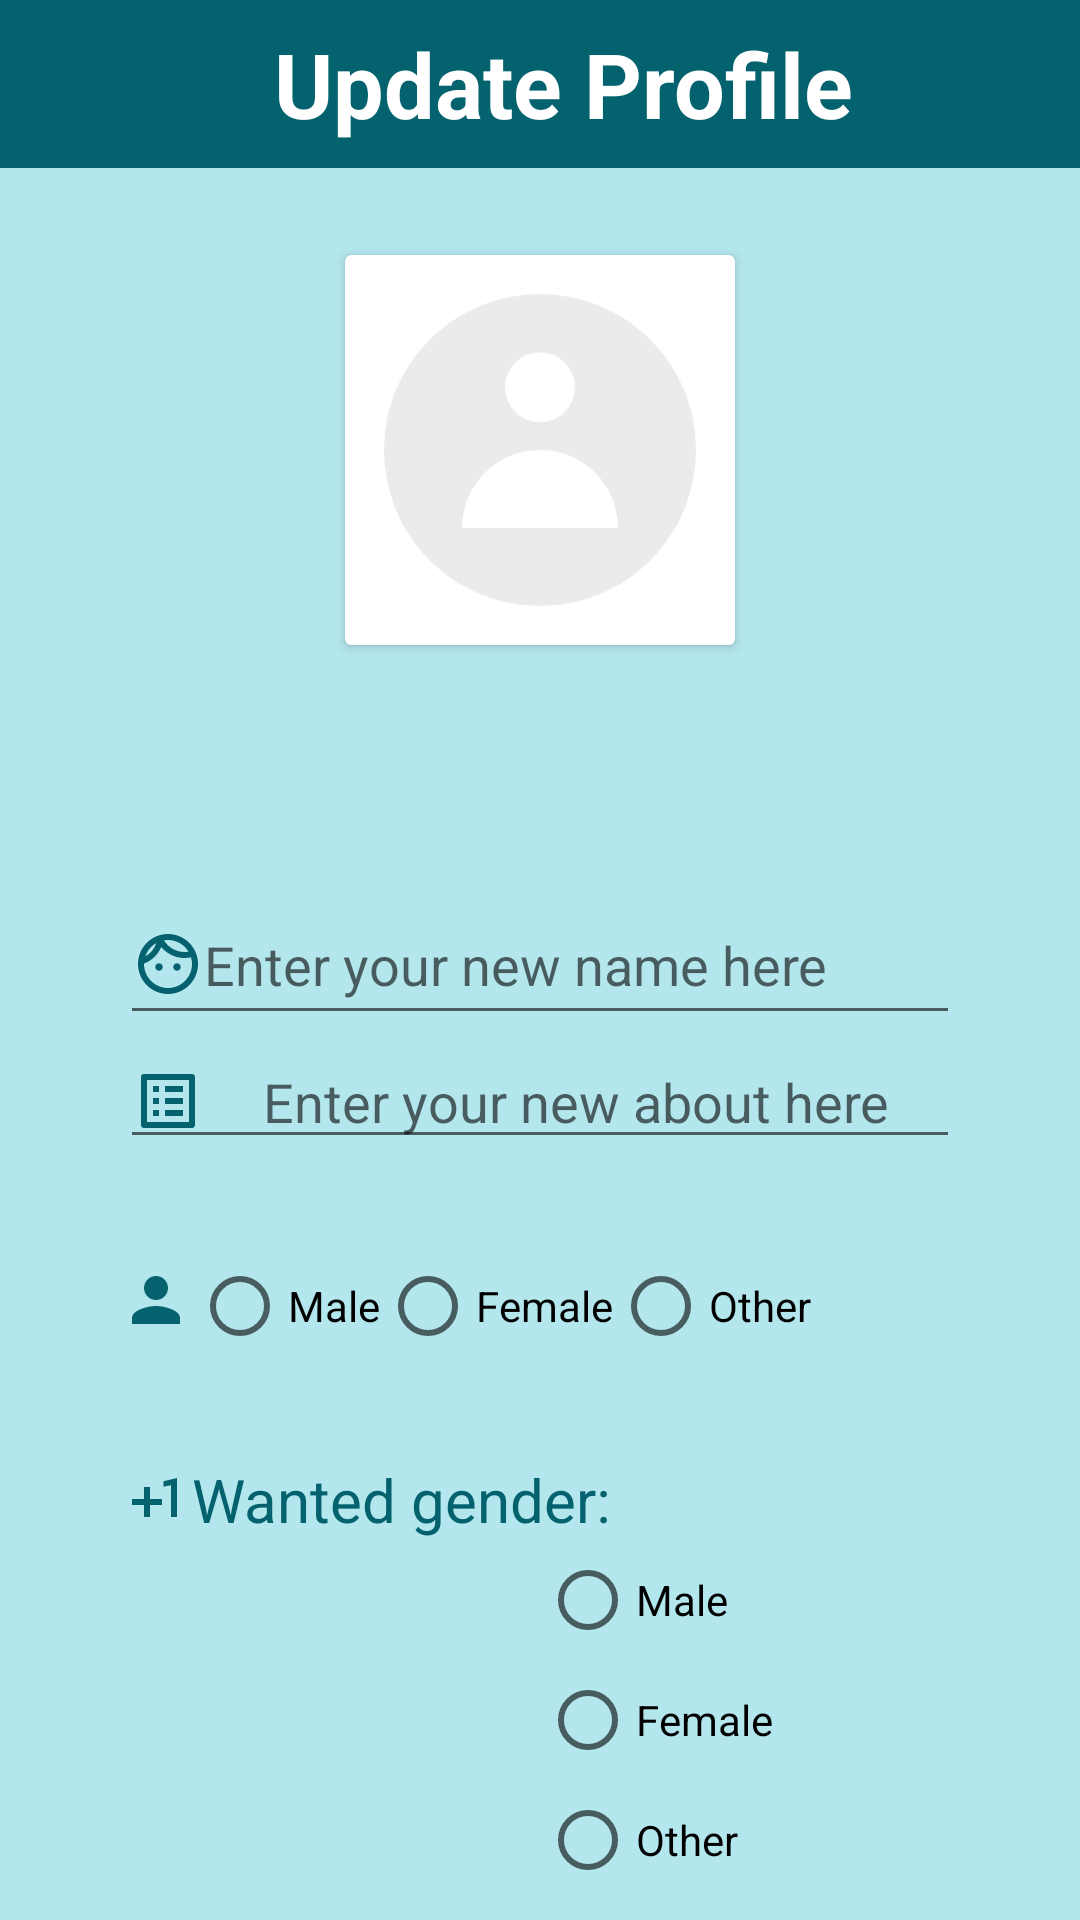

Icon bounding boxes for this 1080×1920 phone screenshot, format bbox=[x1, y1, x2, y2]:
person: bbox=[132, 1276, 180, 1324]
